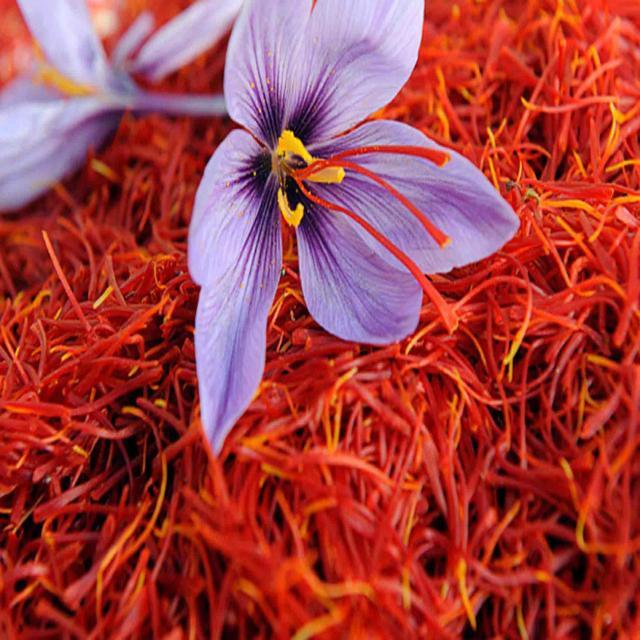Flower: (199, 18, 457, 304)
stigma: (284, 142, 446, 335), (284, 134, 456, 238)
